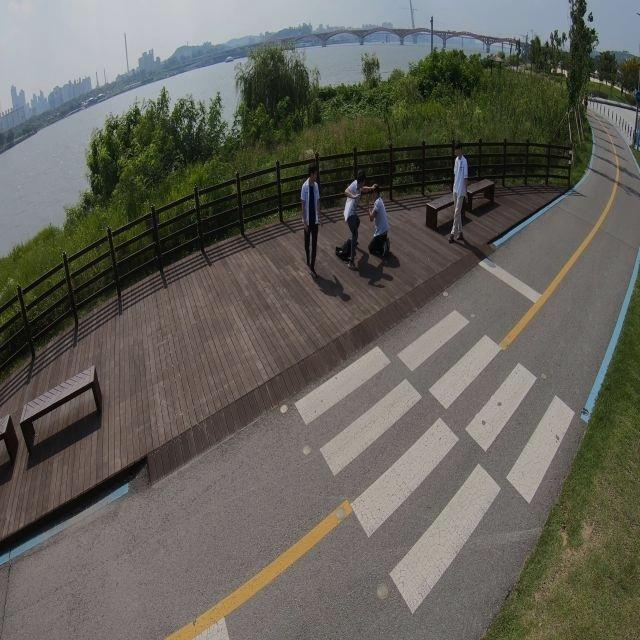fight: (341, 175, 392, 285)
non-fight: (300, 167, 322, 274), (450, 146, 469, 243)
